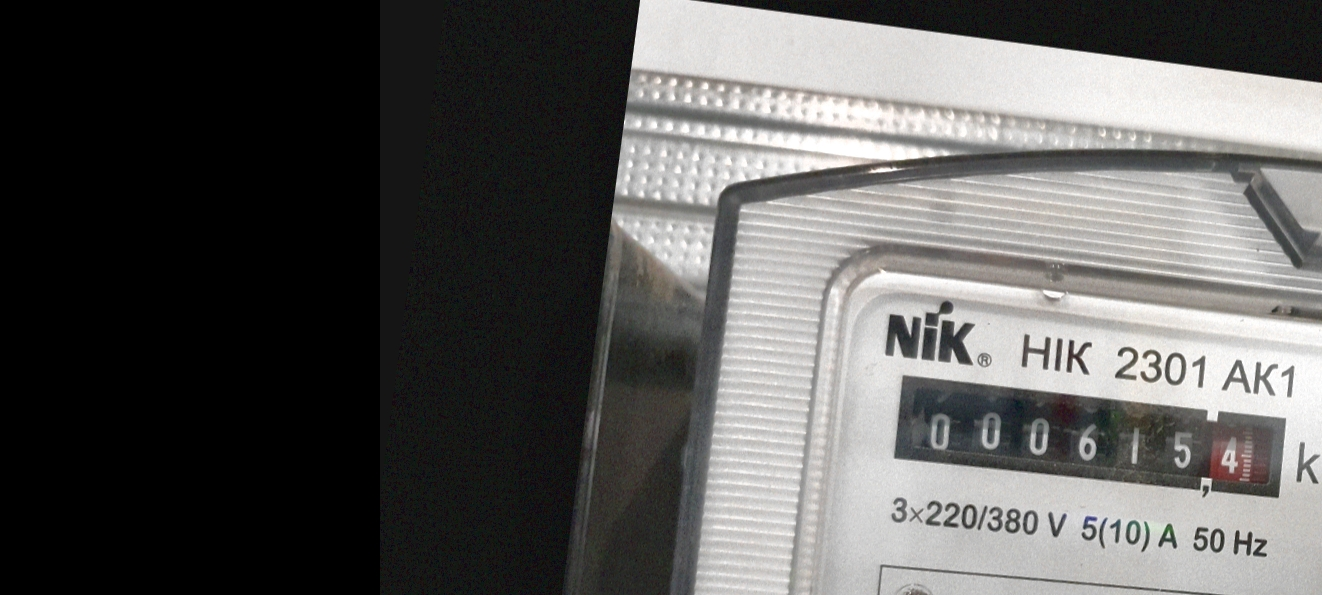0: (1023, 412, 1053, 457), (924, 407, 954, 451), (976, 407, 1004, 449)
1: (1125, 423, 1144, 465)
4: (1217, 431, 1241, 474)
5: (1168, 426, 1196, 470)
6: (1072, 418, 1101, 461)
screen: (876, 354, 1302, 520)
